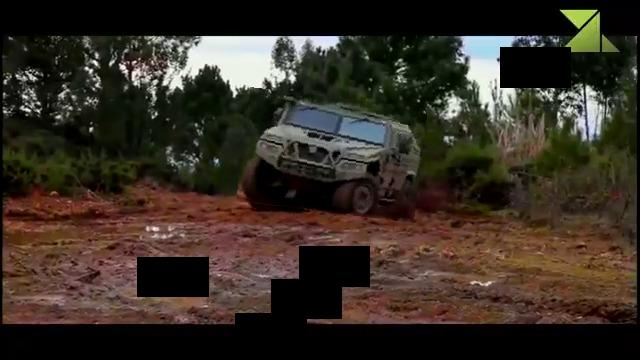MIL_HMMWV: (239, 92, 424, 217)
